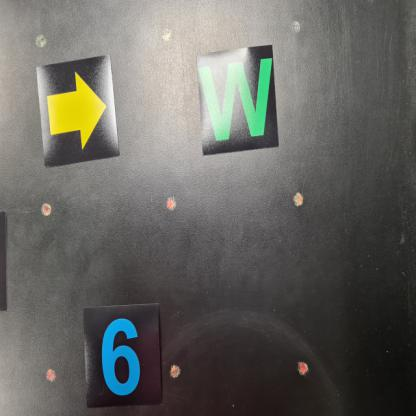6: (84, 303, 165, 408)
right: (35, 54, 122, 168)
w: (197, 43, 280, 157)
